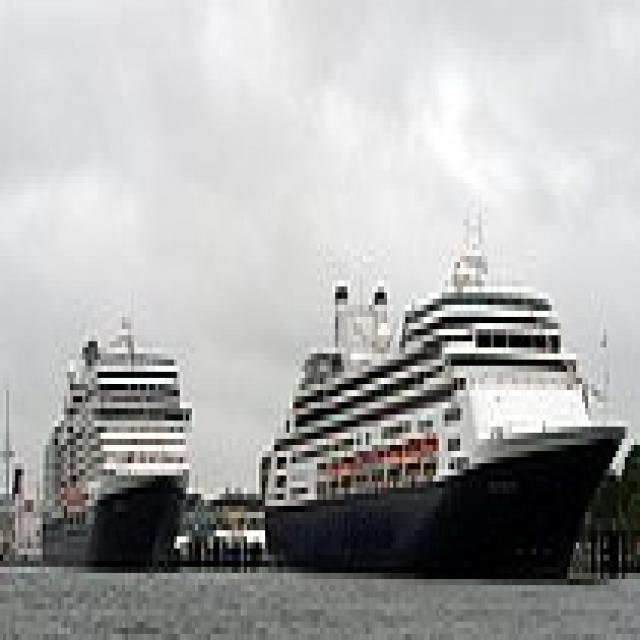Cruise: (256, 207, 625, 579), (37, 305, 192, 567)
